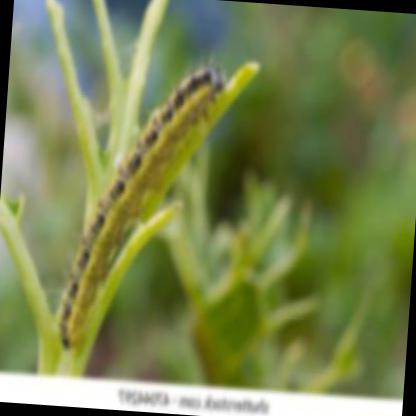pieris: (60, 67, 229, 352)
